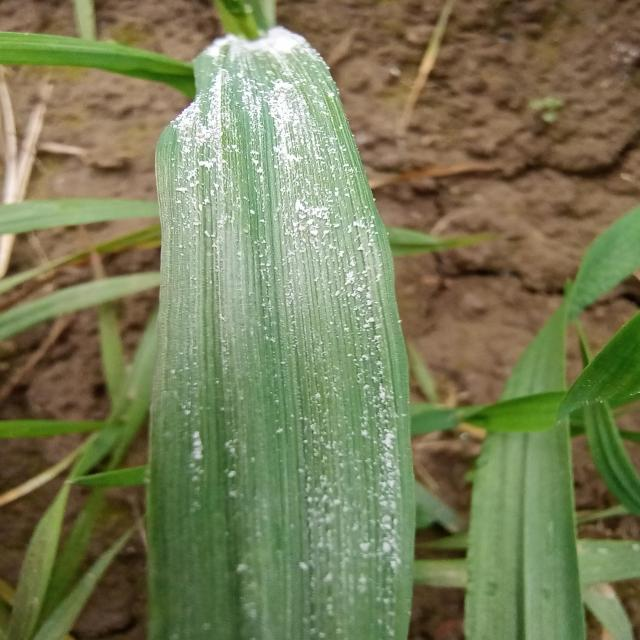Powdery_Mildew: (195, 80, 375, 618)
